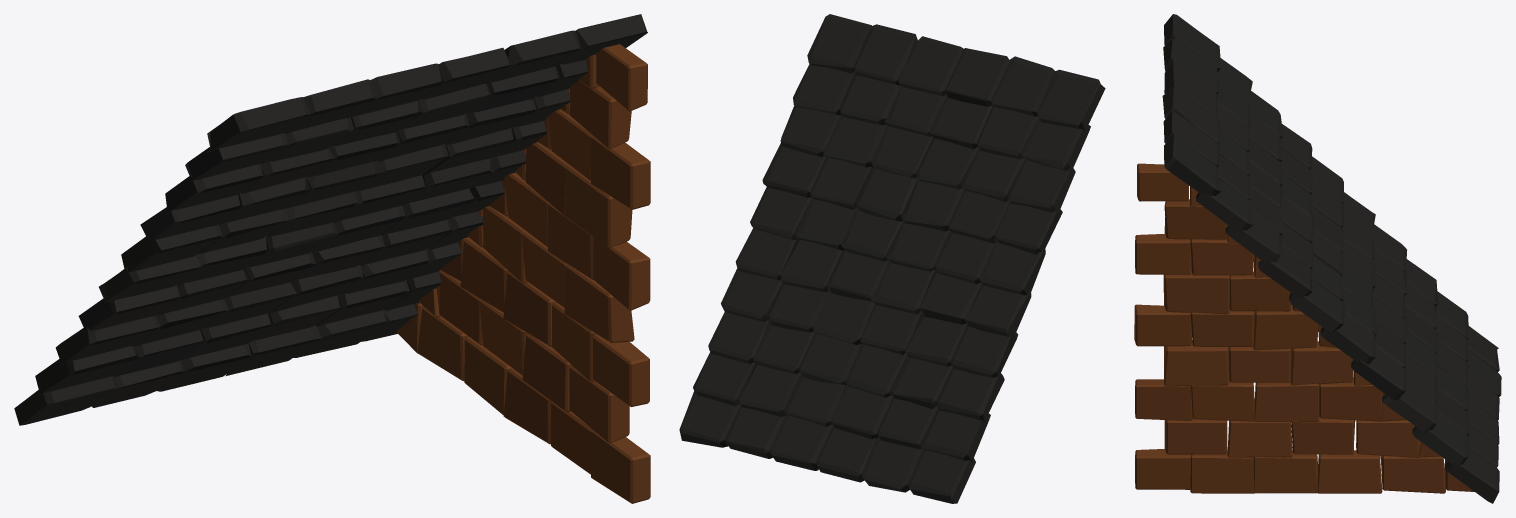
File: BrickWall-RedBrick-Roof-Left.fbx
3 views of the same model, side by side, from view 1: azimuth 30°, elevation 25°; view 2: azimuth 150°, elevation 25°; view 3: azimuth 270°, elevation 25° (orthographic). The views are drawn at different scales.
Parts seen in each view (by area): view 1: Cube.005, Stone Base wall.007; view 2: Cube.005; view 3: Stone Base wall.007, Cube.005.
Boxes of the visible parts, box(x1,y1,x2,y2) form: Cube.005: box(14, 14, 647, 425); Stone Base wall.007: box(396, 44, 650, 503); Cube.005: box(679, 14, 1105, 503); Stone Base wall.007: box(1134, 163, 1474, 493); Cube.005: box(1162, 14, 1501, 503).
Bounding box in the file's own units: 883 × 973 × 928.
